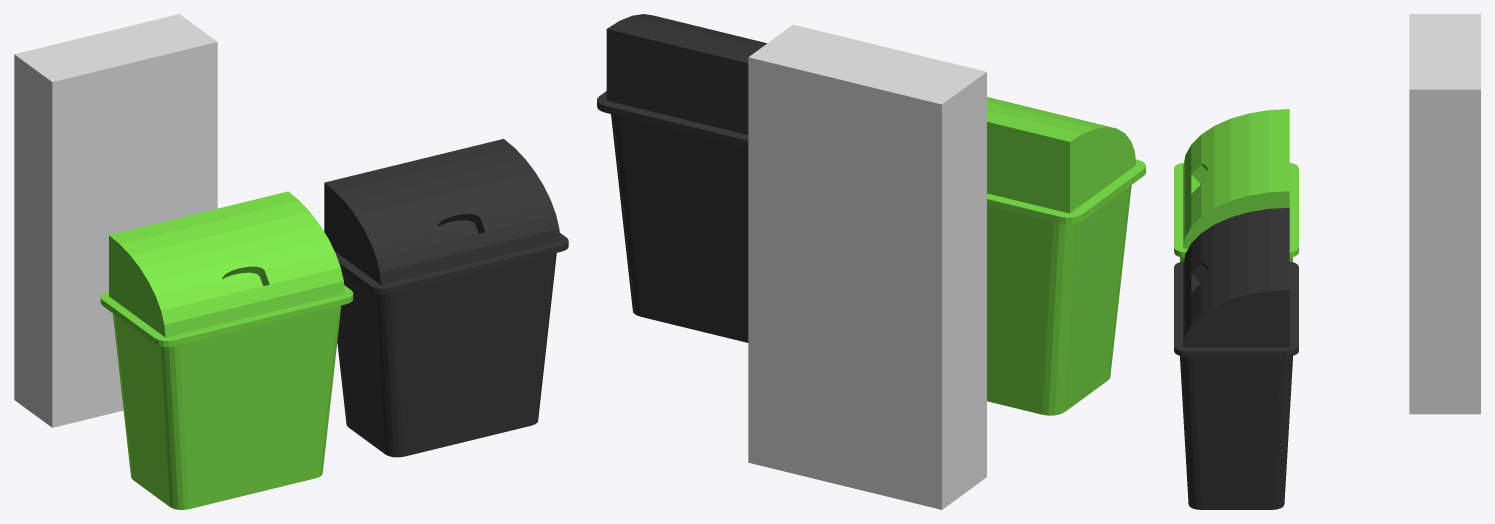
The model's file is Tachos basura del cole.fbx.
The picture shows the model from 3 angles, left to right: view 1: azimuth 30°, elevation 25°; view 2: azimuth 150°, elevation 25°; view 3: azimuth 270°, elevation 25°; orthographic projection. The views are drawn at different scales.
Visible parts, largest first — view 1: Tacho de basura, Tacho de basura.001, Humano de refernecia; view 2: Humano de refernecia, Tacho de basura.001, Tacho de basura; view 3: Tacho de basura.001, Humano de refernecia, Tacho de basura.
Boxes of the visible parts, x1,y1,x2,y2 form: Tacho de basura: (100,191,353,509); Tacho de basura.001: (324,139,568,457); Humano de refernecia: (14,14,217,427); Humano de refernecia: (748,24,986,509); Tacho de basura.001: (597,14,766,342); Tacho de basura: (987,97,1145,415); Tacho de basura.001: (1174,207,1298,509); Humano de refernecia: (1409,14,1480,414); Tacho de basura: (1174,109,1298,261).
Size of the model in its own units: 249 by 200 by 171.
